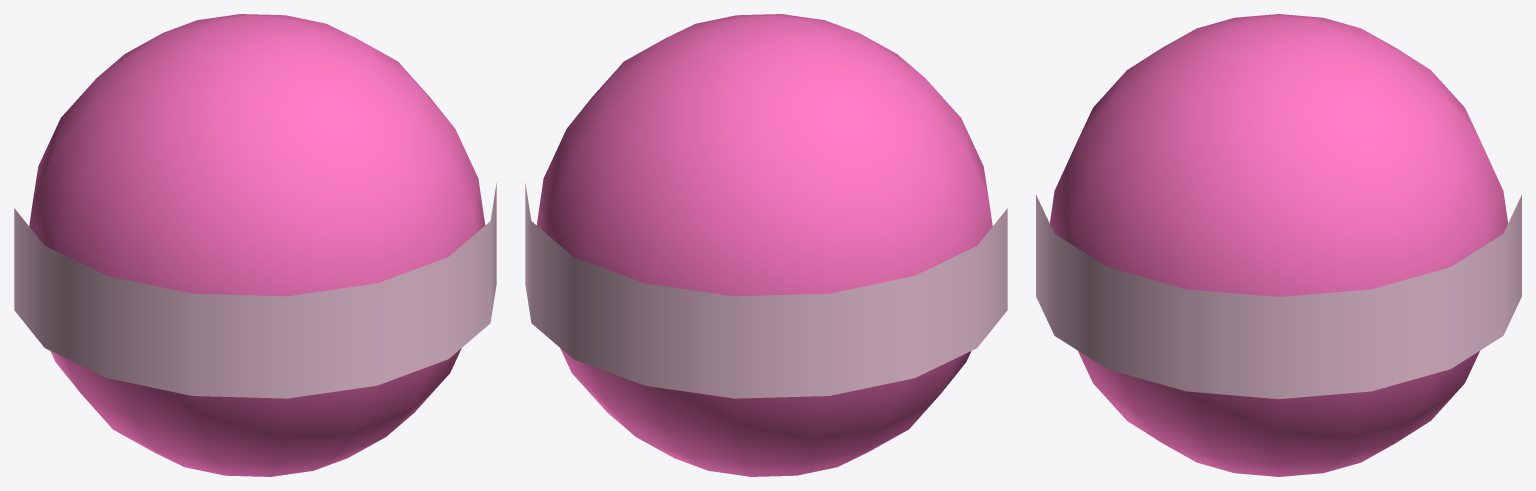
The model's file is snake_pink_body.glb.
3 views of the same model, side by side, from view 1: azimuth 30°, elevation 25°; view 2: azimuth 150°, elevation 25°; view 3: azimuth 270°, elevation 25° (orthographic).
Bounding box in the file's own units: 0.69 × 0.66 × 0.69.
